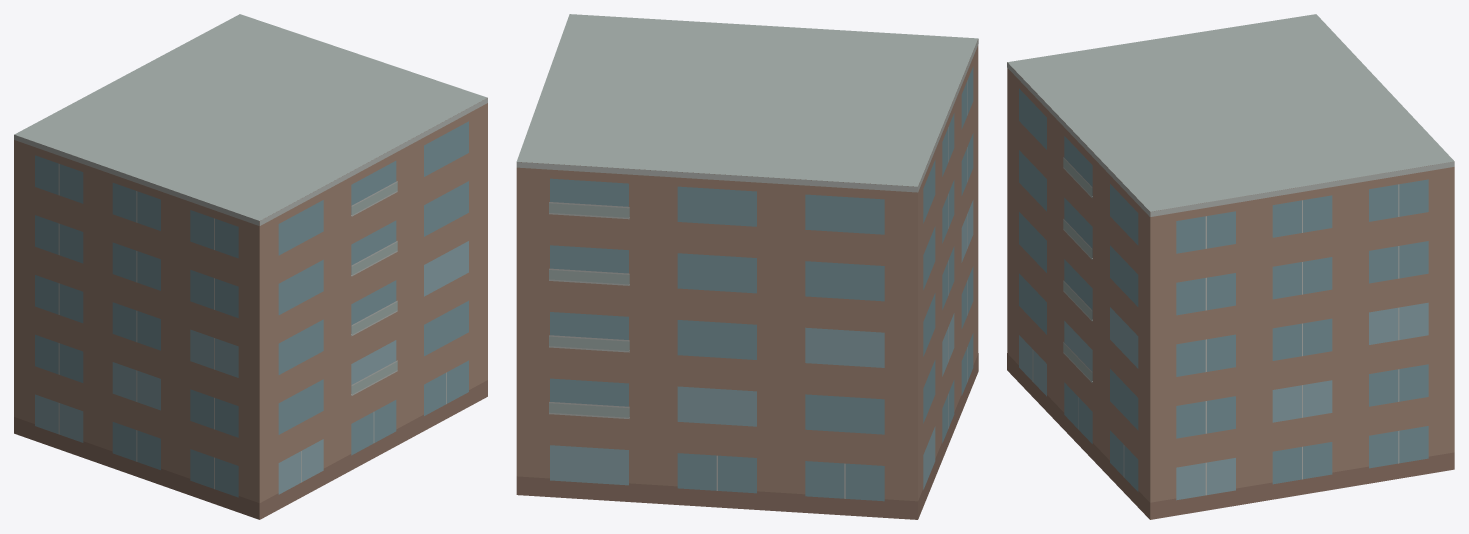
The model's file is survey-upis-32846404.glb.
3 views of the same model, side by side, from view 1: azimuth 30°, elevation 25°; view 2: azimuth 150°, elevation 25°; view 3: azimuth 270°, elevation 25° (orthographic). The views are drawn at different scales.
Visible parts, largest first — view 1: survey-upis-32846404.tmp; view 2: survey-upis-32846404.tmp; view 3: survey-upis-32846404.tmp.
Boxes of the visible parts, <box> form: survey-upis-32846404.tmp: <box>14,14,487,519</box>; survey-upis-32846404.tmp: <box>516,14,978,519</box>; survey-upis-32846404.tmp: <box>1007,14,1454,519</box>.
Bounding box in the file's own units: 19.28 × 14 × 18.44.
